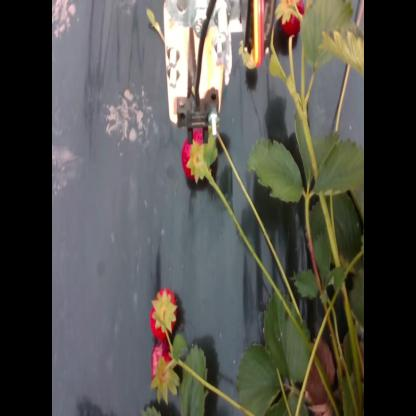ripe: (180, 124, 212, 188), (149, 290, 177, 338), (276, 0, 308, 36), (150, 345, 175, 383)
